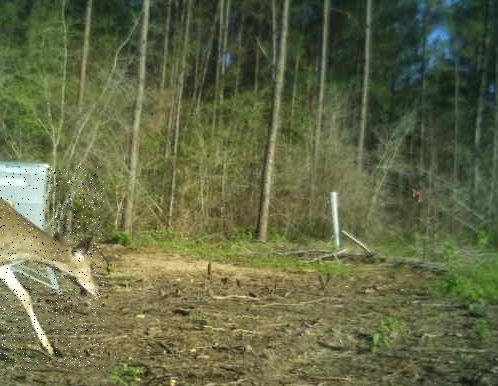Deer: (0, 166, 104, 370)
